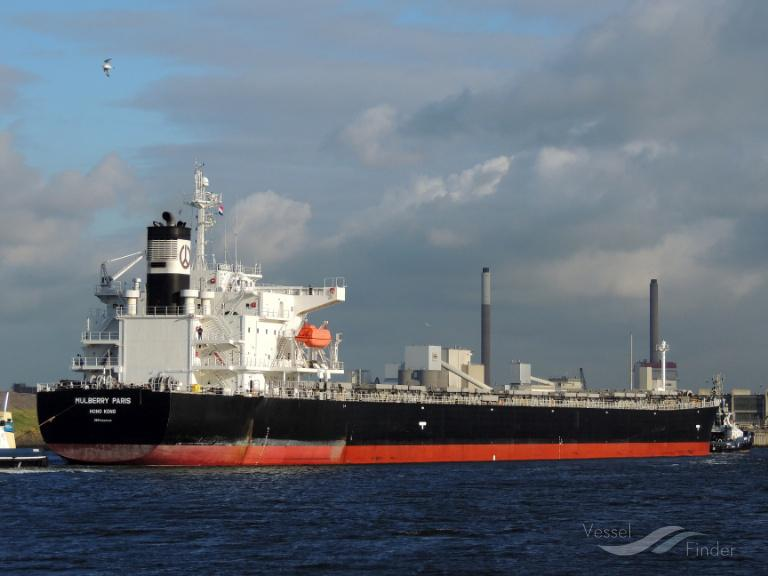OCR: (70, 394, 136, 408)
